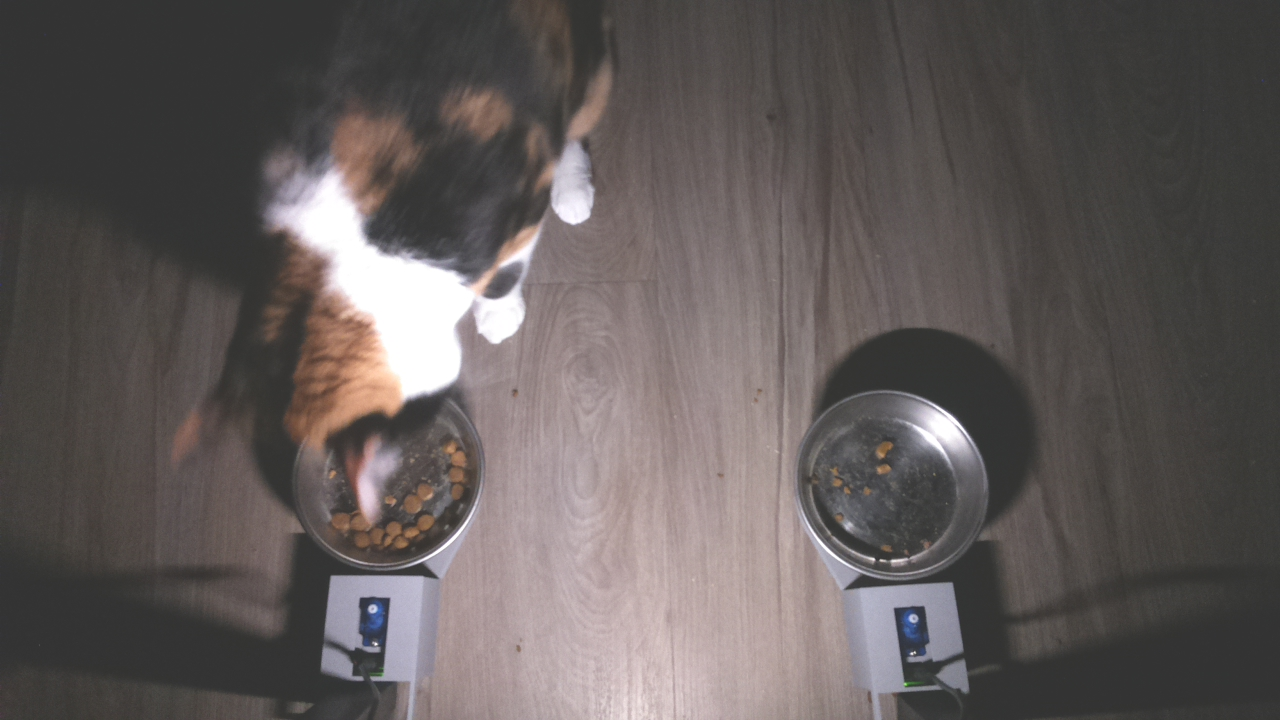bella_eating: (163, 251, 494, 582)
open_bowl: (799, 387, 998, 579)
